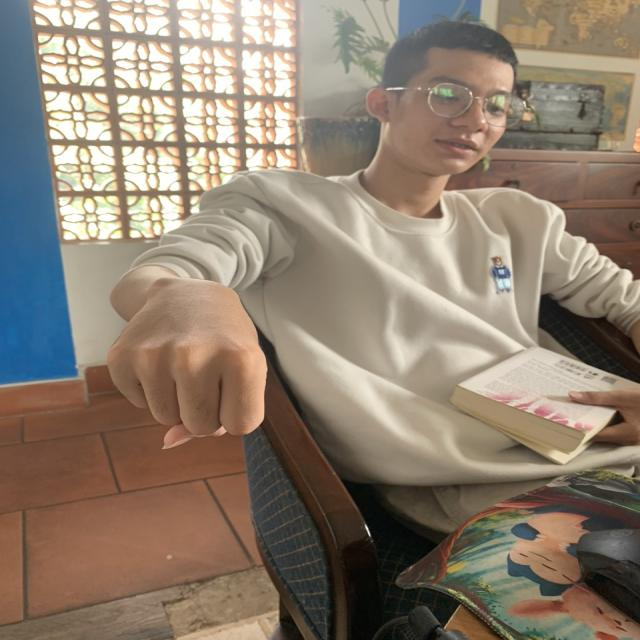yes: (87, 266, 289, 461)
